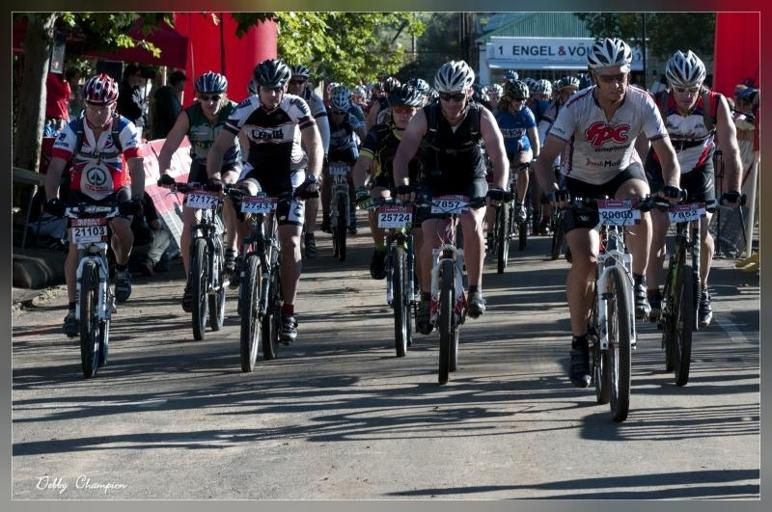non-vehicle: (543, 184, 687, 423), (408, 187, 512, 382), (224, 180, 318, 375), (657, 189, 748, 388), (48, 193, 135, 376), (160, 176, 237, 343), (354, 181, 421, 358), (319, 151, 355, 261)
